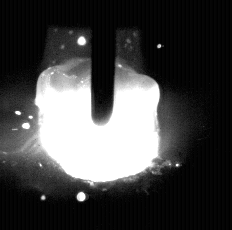arame: (92, 0, 117, 125)
poca: (37, 0, 159, 230)
